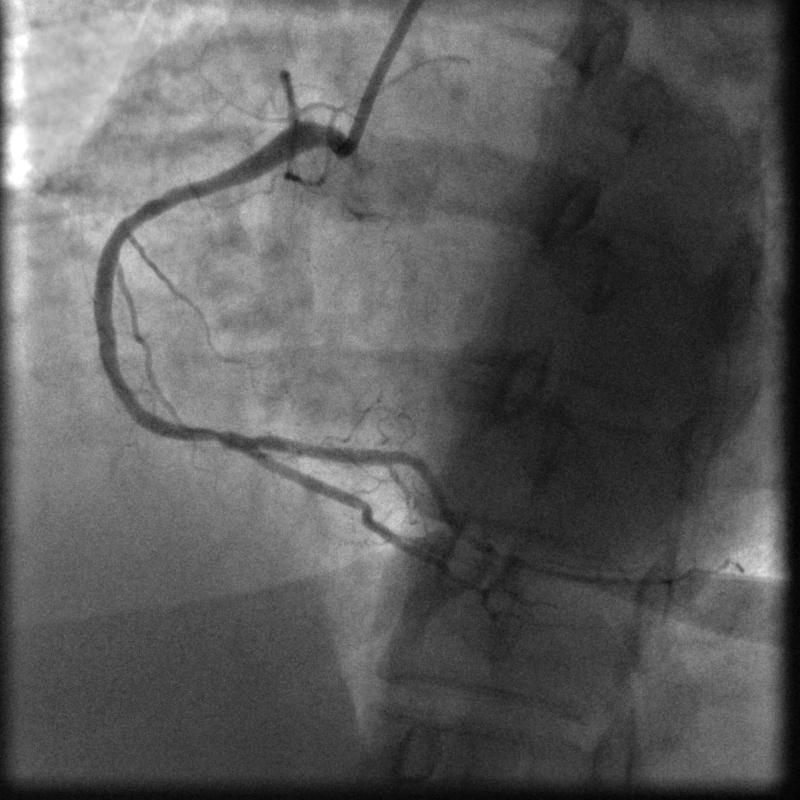Stenosis: (186, 422, 254, 456)
